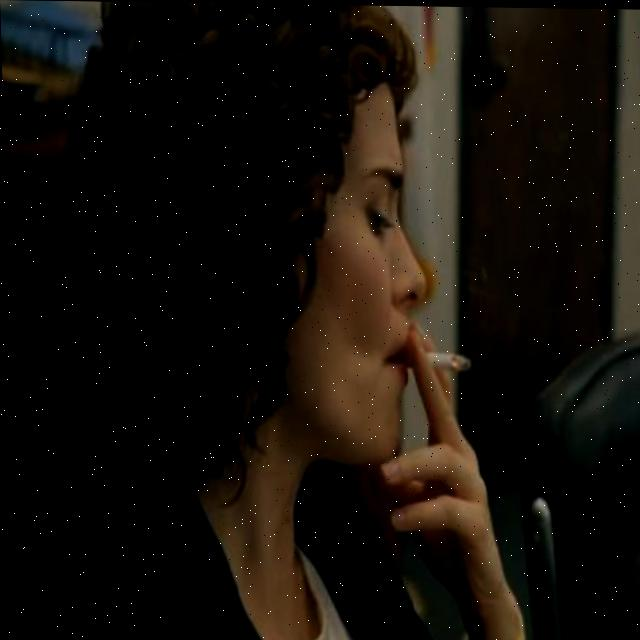cigarette: (409, 346, 471, 374)
